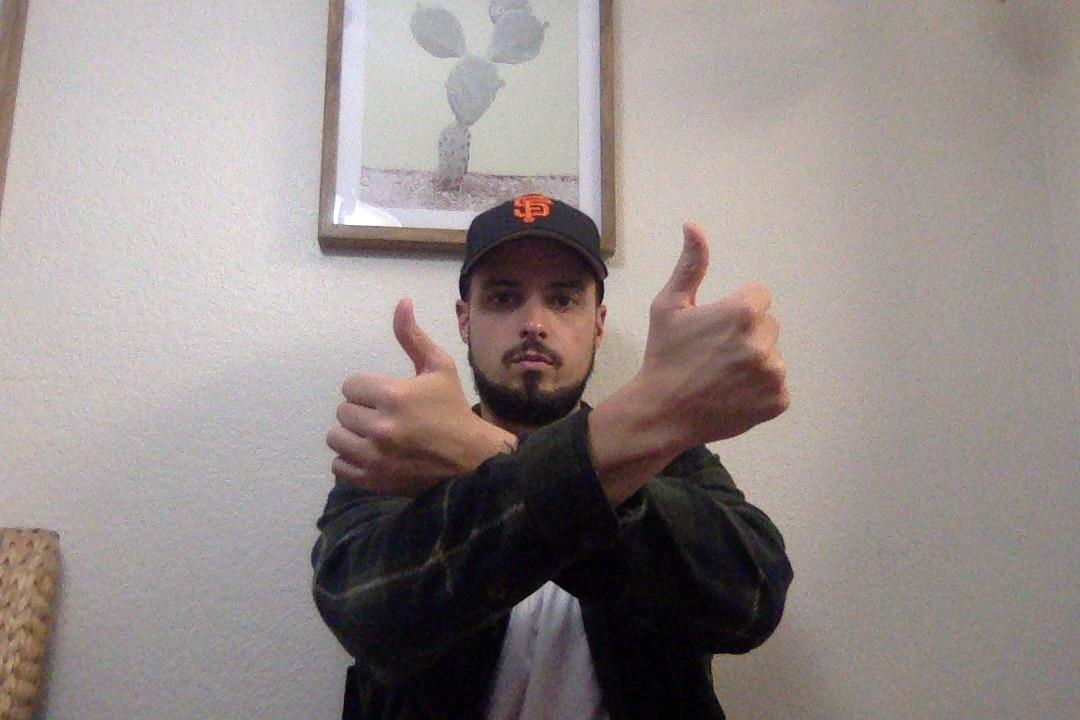Thumbs-Up: (623, 222, 794, 472), (337, 295, 485, 500)
